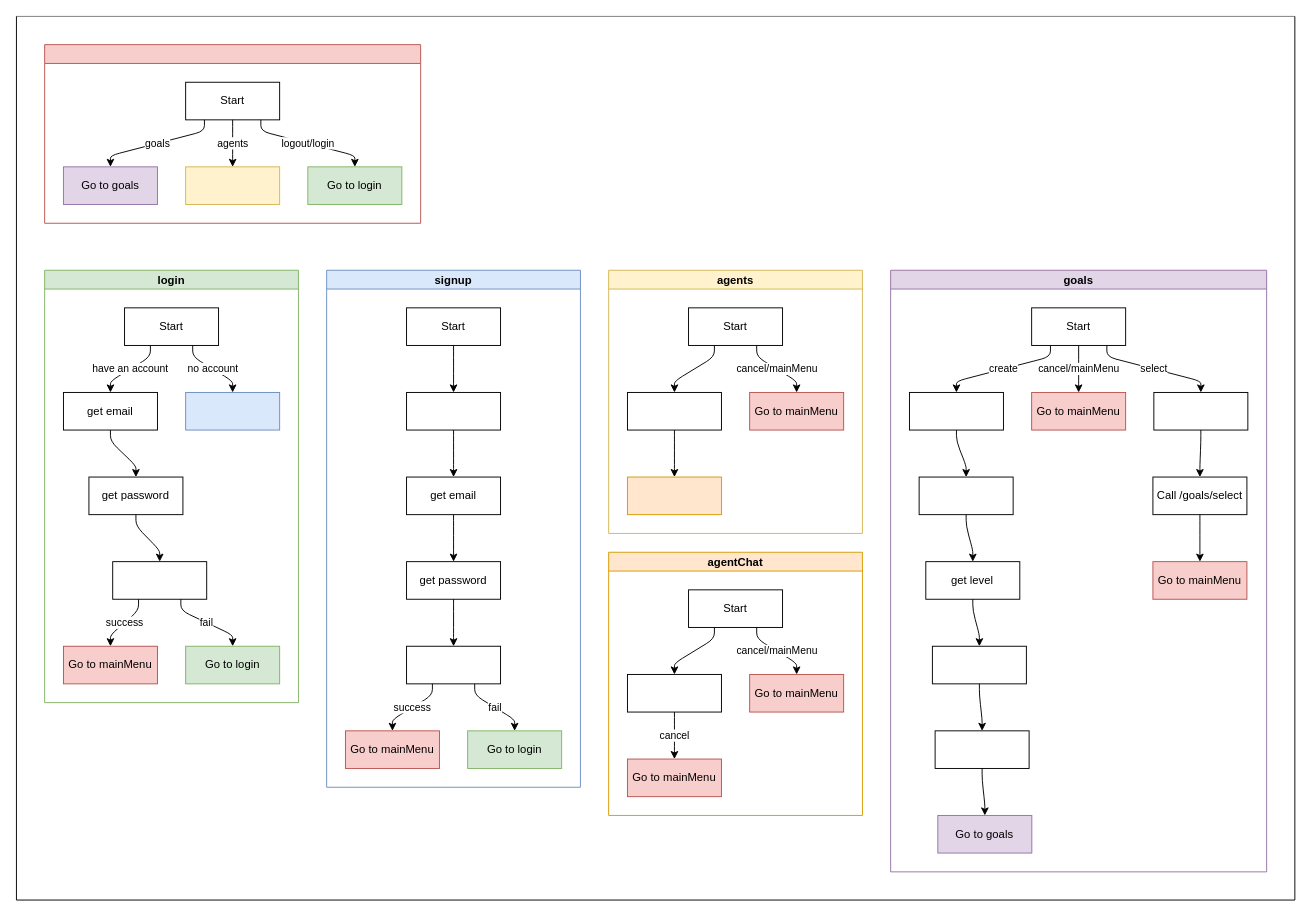
Some shapes in this 1311 by 917 pixel diagram are drawn without their labels. Each missing label, with the box of its shape:
Call /goals: (934, 730, 1029, 768)
Call /login: (112, 561, 207, 599)
Call /signup: (406, 645, 501, 684)
Chat...: (627, 674, 721, 712)
get context: (918, 476, 1013, 515)
get language: (909, 392, 1003, 430)
get name: (406, 392, 501, 430)
get period: (931, 645, 1026, 684)
Go to agentChat: (627, 476, 721, 515)
Go to agents: (185, 166, 280, 204)
Go to signup: (185, 392, 280, 430)
List of agents: (627, 392, 721, 430)
List of goals: (1153, 392, 1248, 430)
mainMenu: (44, 44, 421, 223)
